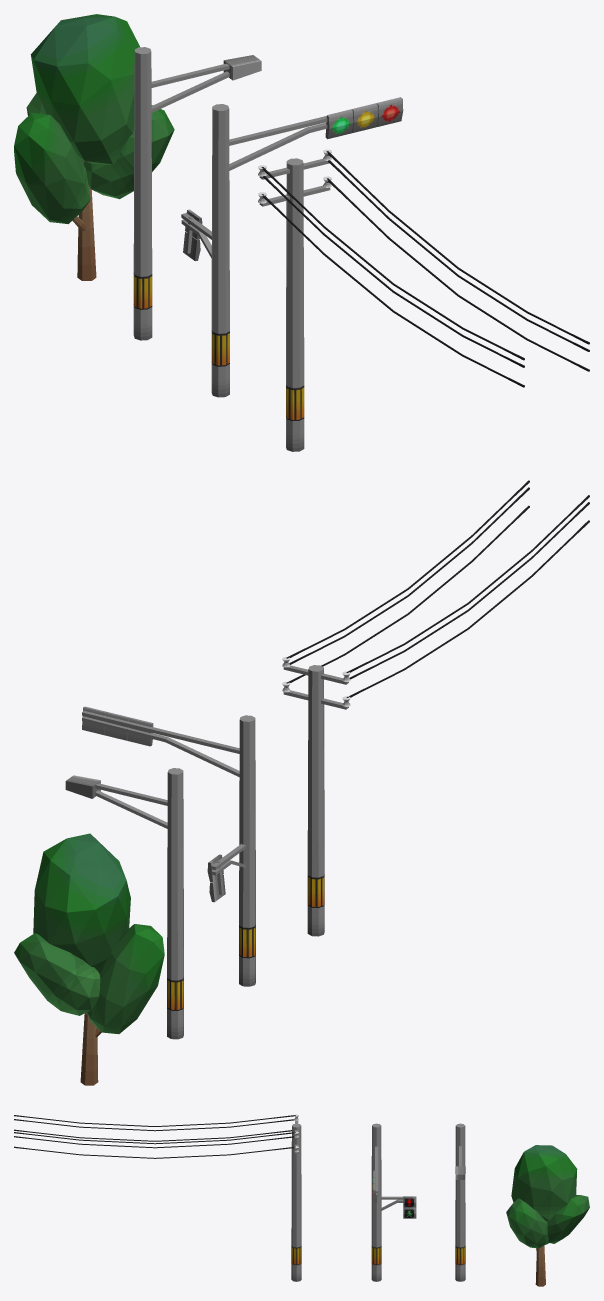
File: Other.fbx
The picture shows the model from 3 angles, top to bottom: view 1: azimuth 30°, elevation 25°; view 2: azimuth 150°, elevation 25°; view 3: azimuth 270°, elevation 25°; orthographic projection. The views are drawn at different scales.
Parts seen in each view (by area): view 1: tree, traffic, traffic.002, traffic.001, traffic.004, traffic light.001, street light, traffic light; view 2: tree, traffic, traffic.002, traffic.001, traffic.004, traffic light.001, street light, traffic light; view 3: tree, traffic.004, traffic, traffic.002, traffic.001, traffic light, traffic light.001.
Boxes of the visible parts, x1,y1,x2,y2 form: tree: [14, 14, 174, 280]; traffic: [258, 149, 331, 451]; traffic.002: [133, 47, 152, 340]; traffic.001: [211, 104, 229, 397]; traffic.004: [261, 151, 589, 387]; traffic light.001: [229, 97, 403, 170]; street light: [151, 55, 261, 112]; traffic light: [181, 209, 211, 261]; tree: [14, 833, 164, 1085]; traffic: [282, 657, 350, 936]; traffic.002: [167, 768, 183, 1039]; traffic.001: [239, 715, 255, 986]; traffic.004: [286, 480, 589, 697]; traffic light.001: [82, 706, 239, 777]; street light: [65, 775, 167, 828]; traffic light: [207, 844, 245, 902]; tree: [506, 1145, 589, 1286]; traffic.004: [14, 1115, 295, 1158]; traffic: [291, 1114, 301, 1281]; traffic.002: [455, 1123, 465, 1281]; traffic.001: [371, 1123, 381, 1281]; traffic light: [381, 1196, 416, 1218]; traffic light.001: [372, 1146, 378, 1202].
Size of the model in its own units: 5.26 by 6.13 by 20.5.
2 materials, 2 textured.
